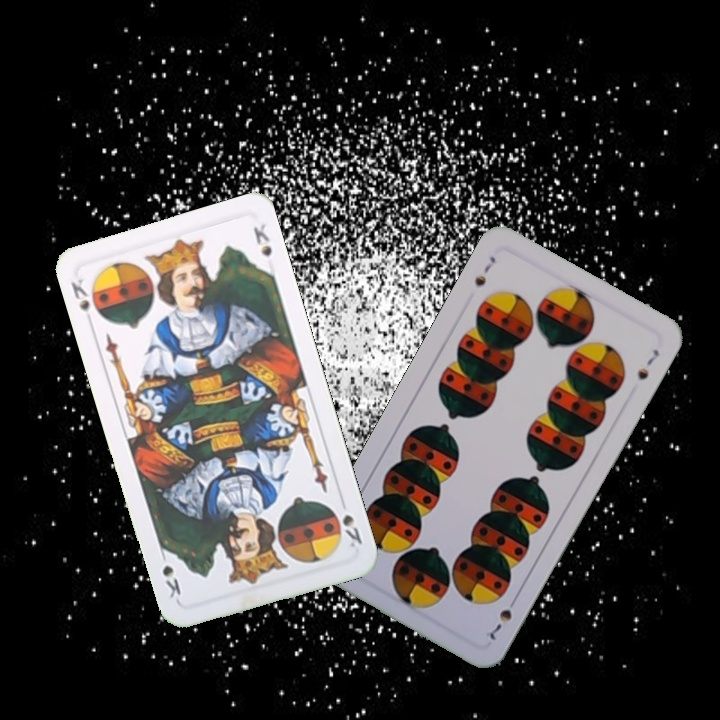S7: (485, 592, 521, 643), (470, 252, 499, 289)
SK: (66, 274, 105, 328), (336, 494, 365, 550)
